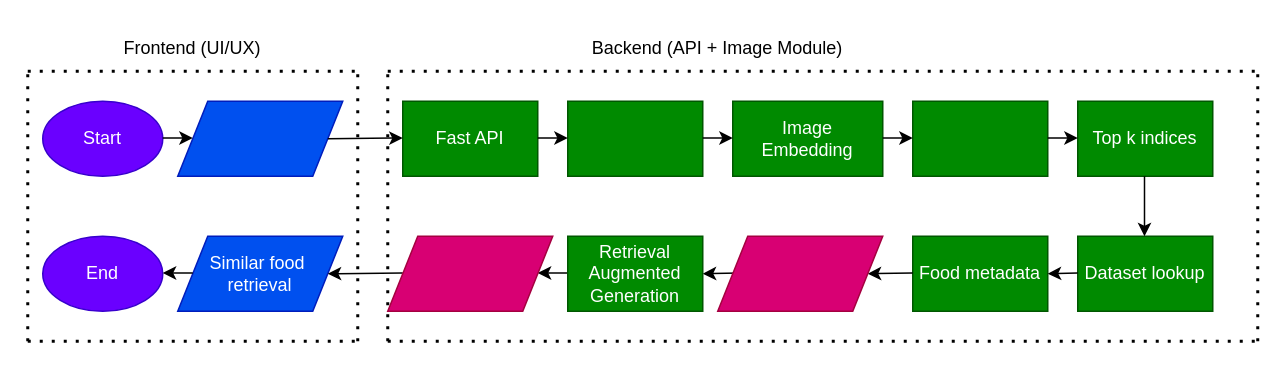
Image size: 1286x369. Some labels were removed from this diagram. Here are the shapes that lost their labels. From the top down, the centre of each, then its label:
the point at 259,138: User input: Image
the point at 634,138: Image Processing Module*
the point at 979,138: Cosine similarity
the point at 469,273: Decoder LLM
the point at 799,273: JASON Response
